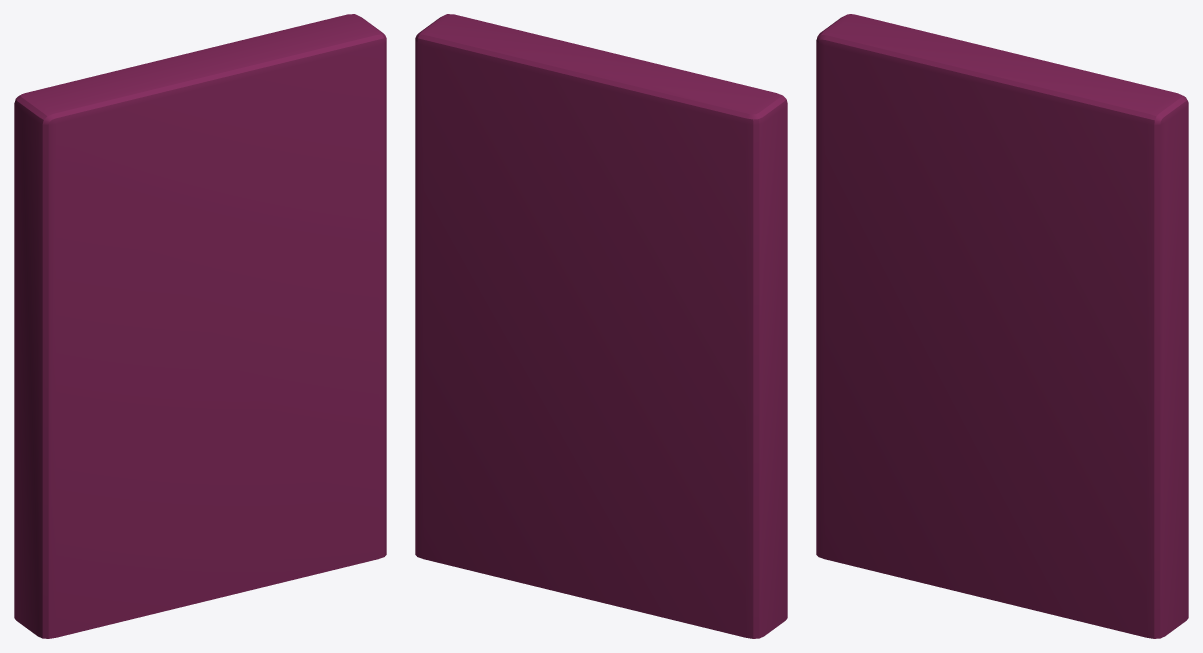
The model's file is XWall.fbx.
3 renders of one model, left to right at view 1: azimuth 30°, elevation 25°; view 2: azimuth 150°, elevation 25°; view 3: azimuth 330°, elevation 25°, orthographic.
Parts seen in each view (by area): view 1: XWall; view 2: XWall; view 3: XWall.
Boxes of the visible parts, x1=… form: XWall: x1=14, y1=14, x2=386, y2=638; XWall: x1=415, y1=14, x2=787, y2=638; XWall: x1=816, y1=14, x2=1188, y2=638.
Bounding box in the file's own units: 250 × 360 × 42.1.
